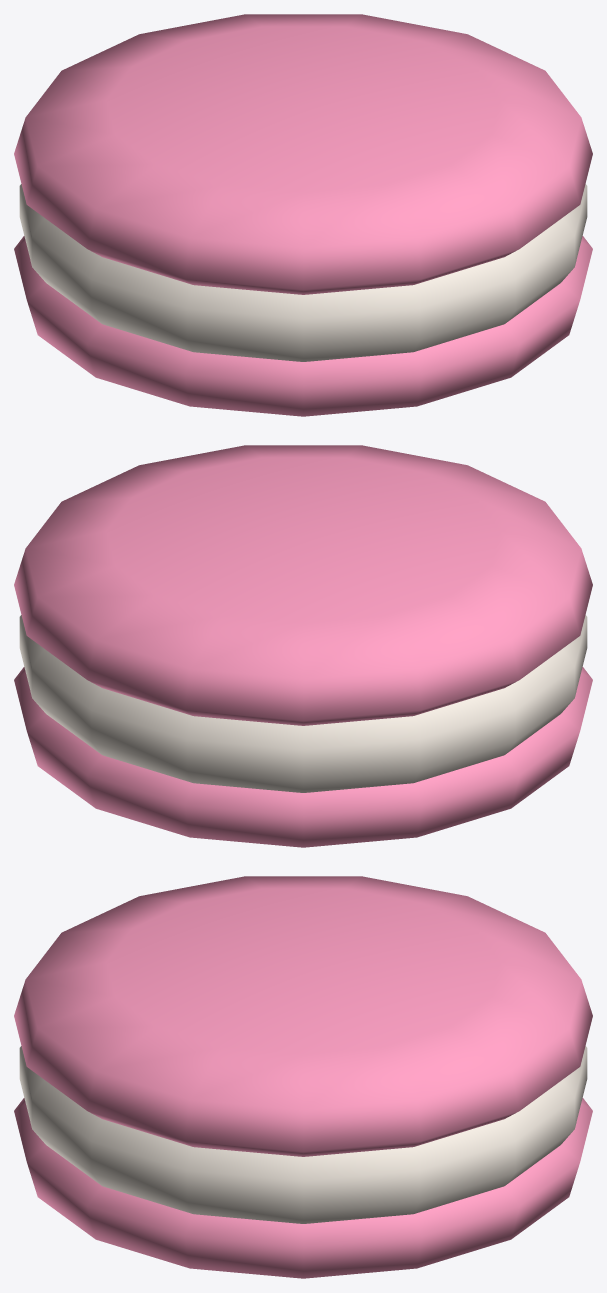
Rendered from w1_05_macaron.glb.
The picture shows the model from 3 angles, top to bottom: view 1: azimuth 30°, elevation 25°; view 2: azimuth 150°, elevation 25°; view 3: azimuth 270°, elevation 25°; orthographic projection.
Parts seen in each view (by area): view 1: W1_05_Macaron; view 2: W1_05_Macaron; view 3: W1_05_Macaron.
Boxes of the visible parts, x1,y1,x2,y2 form: W1_05_Macaron: (14,14,592,416); W1_05_Macaron: (14,445,592,847); W1_05_Macaron: (14,876,592,1278).
Size of the model in its own units: 0.9891 by 0.41 by 0.9945.
1 material, 1 textured.
